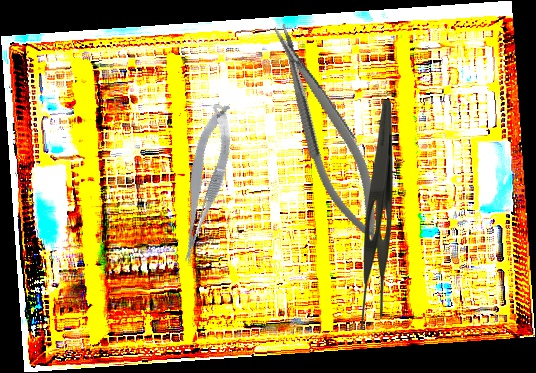Dressing Forceps: (357, 100, 393, 329)
Micro Scissor: (160, 99, 247, 267)
Needle Holder: (261, 14, 395, 253)
